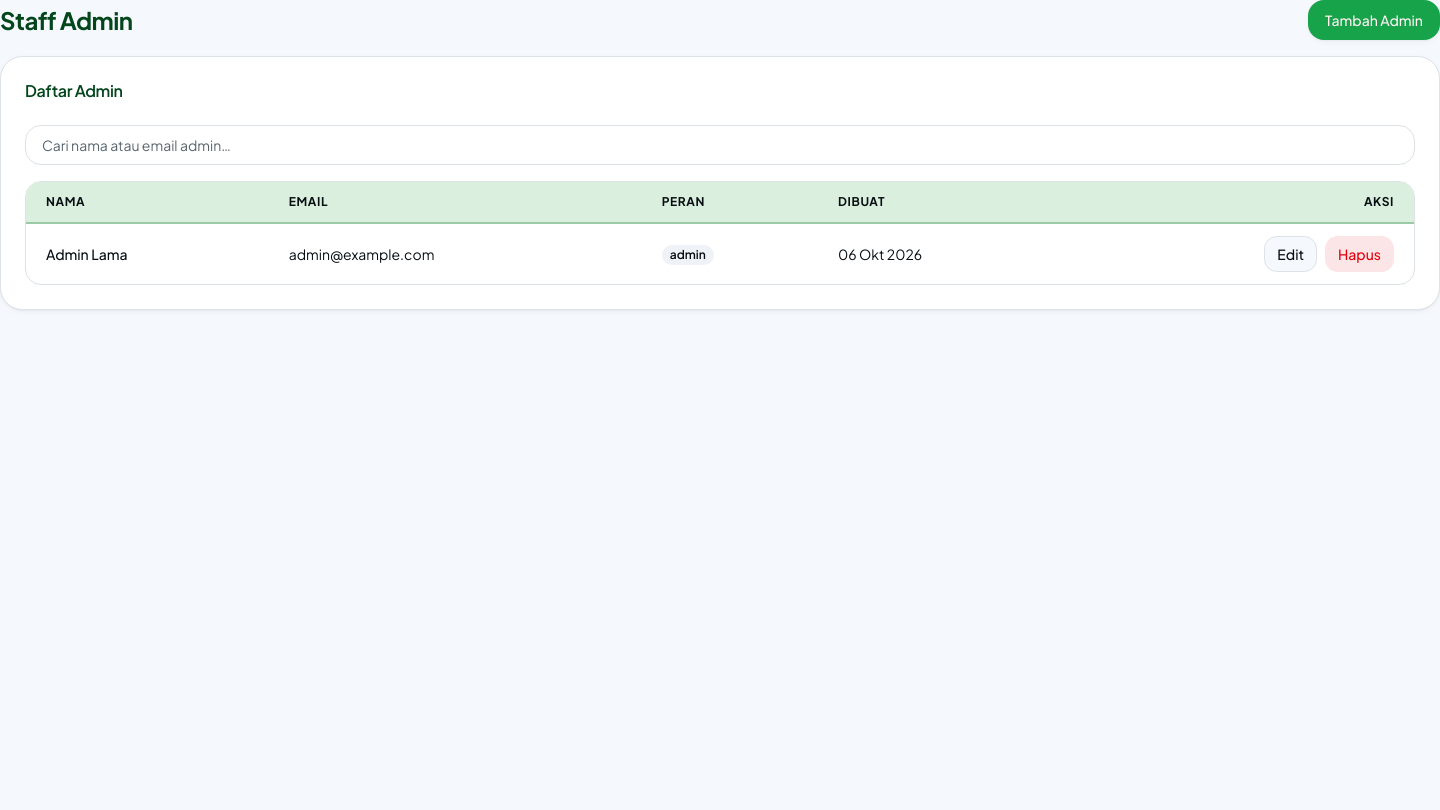
Test: Staff admin › loads the existing name and submits the backend PATCH without changing email or role
Click the button with aria-label "Edit Admin Lama" at (1291, 254), box left=1264, top=236, right=1317, bottom=272
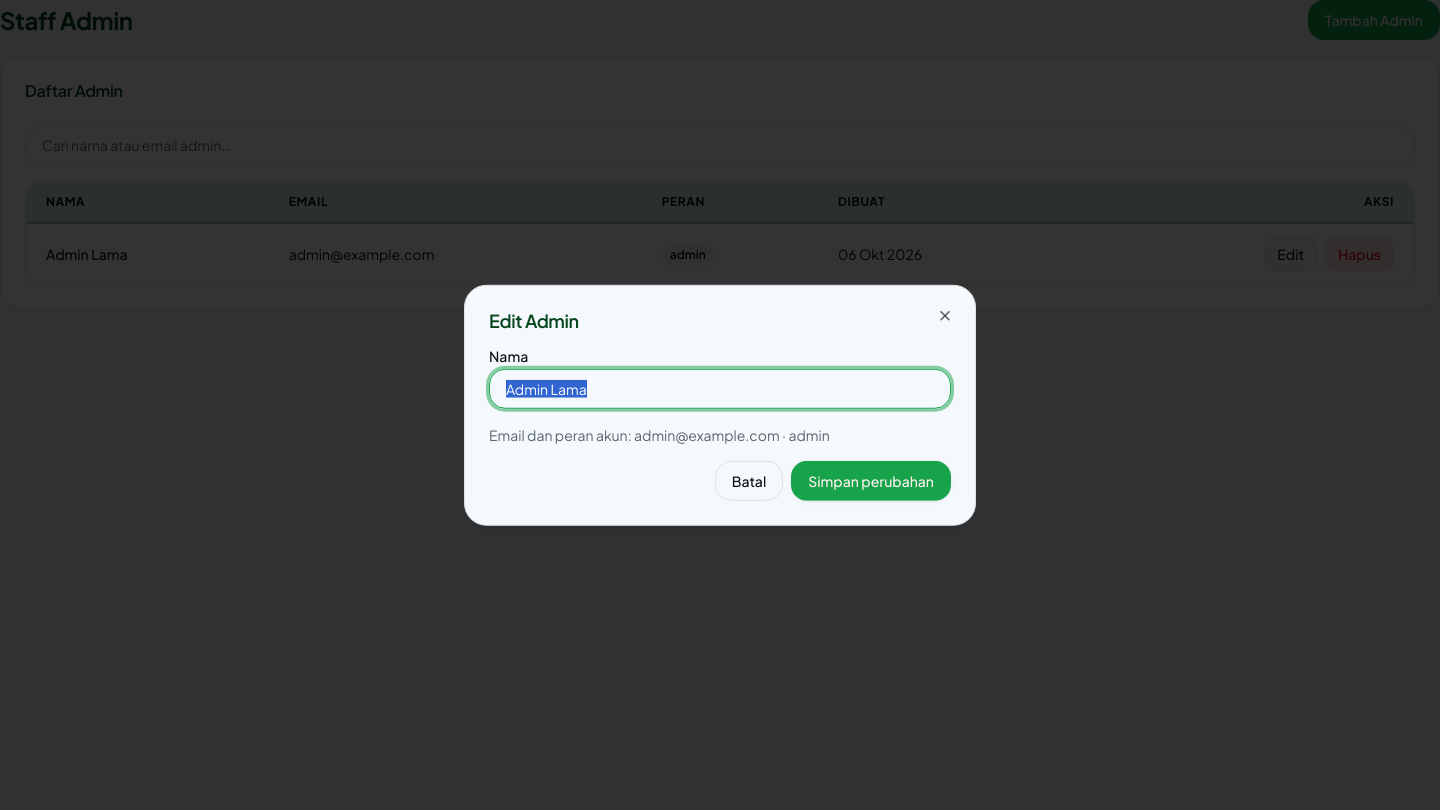
Now the field labelled "Nama" holds "Admin Lama"
Replace the text in the field labelled "Nama" with " Admin Baru " at (720, 388), box left=489, top=368, right=951, bottom=408
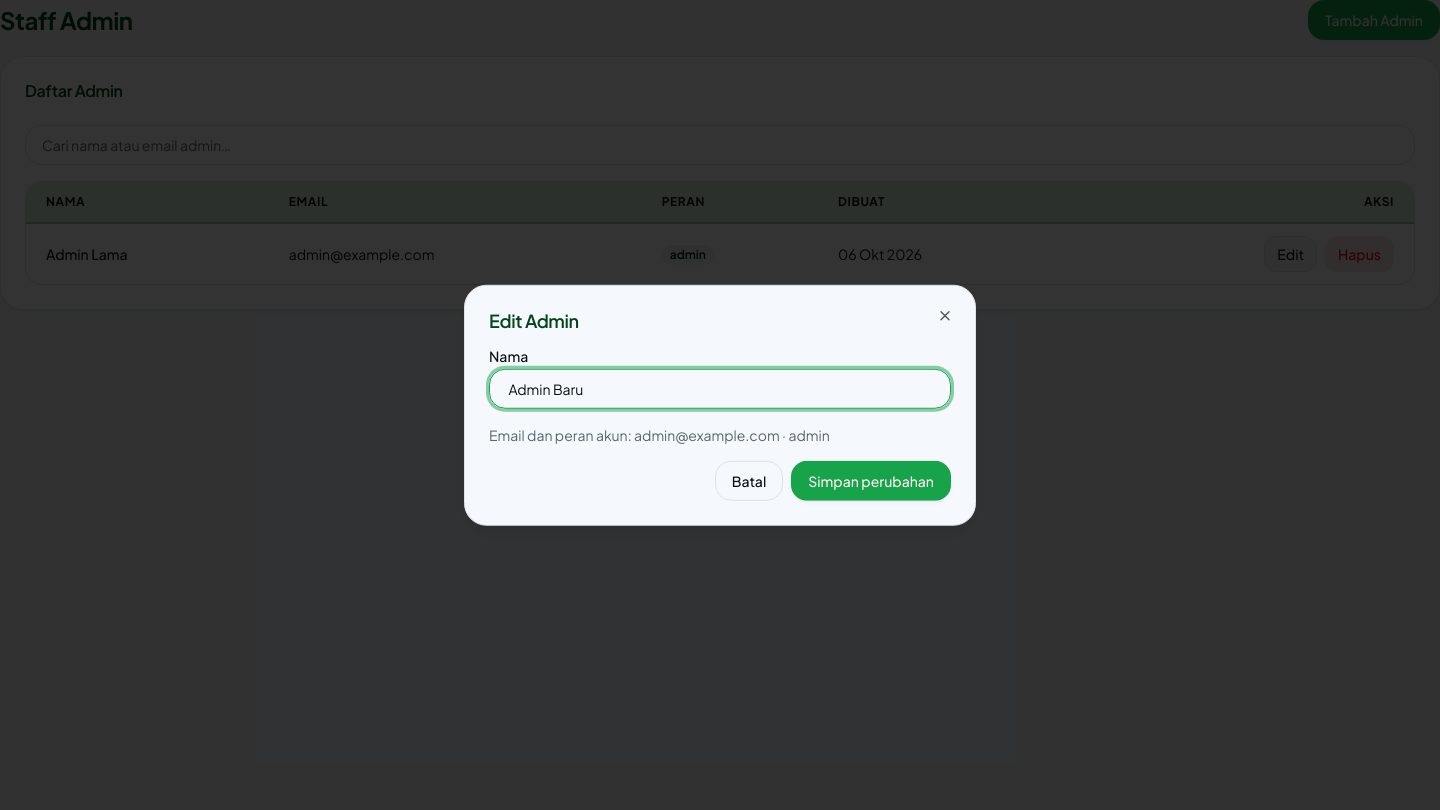
Click the button "Simpan perubahan" at (871, 480), box left=791, top=460, right=951, bottom=500
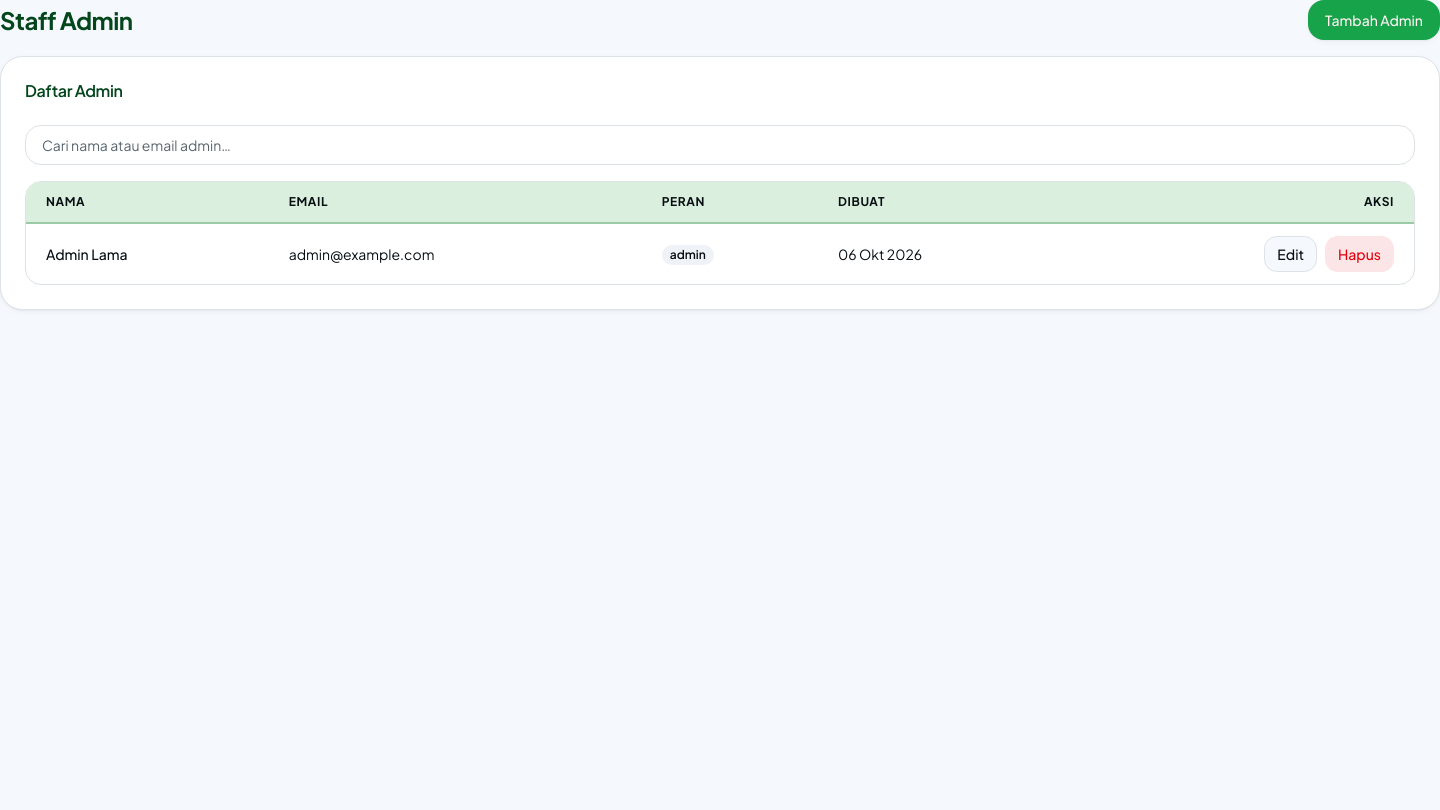
Now the dialog is gone
